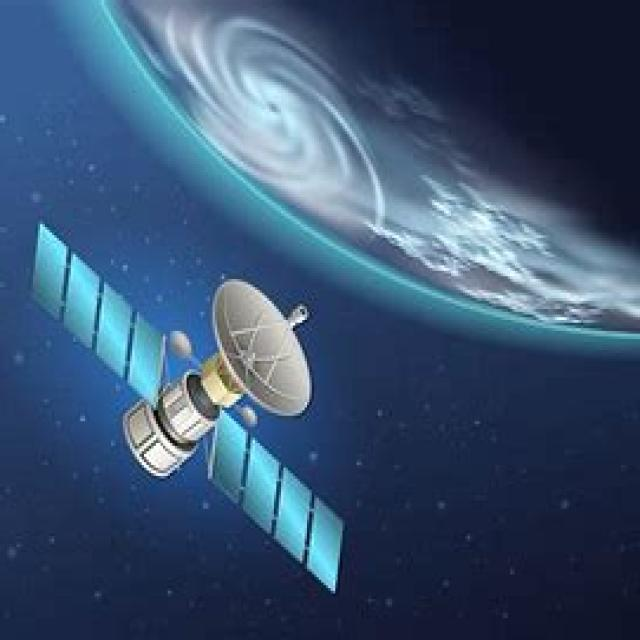satellite: (9, 199, 353, 597)
